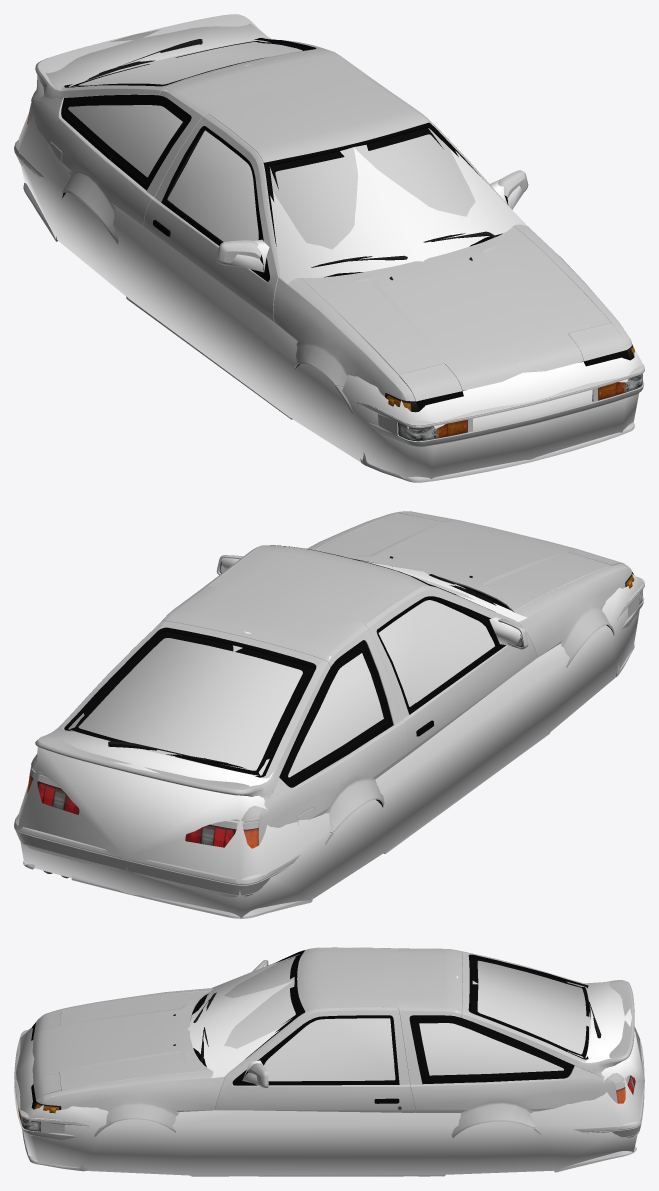
The model's file is RMCarDemo.FBX.
3 renders of one model, top to bottom at view 1: azimuth 30°, elevation 25°; view 2: azimuth 150°, elevation 25°; view 3: azimuth 270°, elevation 25°, orthographic. The views are drawn at different scales.
Parts seen in each view (by area): view 1: RMCDemo_Body_col, RMCDemo_Paint_LOD0, RMCDemo_Windows_LOD0, RMCDemo_Body_LOD0, RMCDemo_PaintHeadlightRight_LOD0, RMCDemo_PaintHeadlightLeft_LOD0, RMCDemo_FogLight_LOD0, RMCDemo_TurnSignalRight_LOD0; view 2: RMCDemo_Body_col, RMCDemo_Paint_LOD0, RMCDemo_Windows_LOD0, RMCDemo_Body_LOD0, RMCDemo_RearSideLight_LOD0; view 3: RMCDemo_Body_col, RMCDemo_Paint_LOD0, RMCDemo_Windows_LOD0, RMCDemo_Body_LOD0, RMCDemo_PaintHeadlightLeft_LOD0, RMCDemo_PaintHeadlightRight_LOD0, RMCDemo_TurnSignalLeft_LOD0.
Part boxes in pixels (x1=…): RMCDemo_Body_col: x1=18, y1=23, x2=643, y2=479; RMCDemo_Paint_LOD0: x1=14, y1=14, x2=644, y2=482; RMCDemo_Windows_LOD0: x1=65, y1=40, x2=474, y2=248; RMCDemo_Body_LOD0: x1=56, y1=38, x2=582, y2=390; RMCDemo_PaintHeadlightRight_LOD0: x1=399, y1=363, x2=462, y2=401; RMCDemo_PaintHeadlightLeft_LOD0: x1=568, y1=323, x2=626, y2=361; RMCDemo_FogLight_LOD0: x1=398, y1=373, x2=642, y2=441; RMCDemo_TurnSignalRight_LOD0: x1=27, y1=107, x2=467, y2=438; RMCDemo_Body_col: x1=18, y1=558, x2=643, y2=918; RMCDemo_Paint_LOD0: x1=14, y1=511, x2=644, y2=918; RMCDemo_Windows_LOD0: x1=69, y1=578, x2=496, y2=782; RMCDemo_Body_LOD0: x1=43, y1=545, x2=616, y2=878; RMCDemo_RearSideLight_LOD0: x1=38, y1=781, x2=234, y2=847; RMCDemo_Body_col: x1=16, y1=950, x2=644, y2=1175; RMCDemo_Paint_LOD0: x1=14, y1=947, x2=644, y2=1176; RMCDemo_Windows_LOD0: x1=225, y1=954, x2=589, y2=1081; RMCDemo_Body_LOD0: x1=173, y1=950, x2=601, y2=1109; RMCDemo_PaintHeadlightLeft_LOD0: x1=33, y1=1072, x2=60, y2=1100; RMCDemo_PaintHeadlightRight_LOD0: x1=33, y1=1010, x2=60, y2=1037; RMCDemo_TurnSignalLeft_LOD0: x1=18, y1=1084, x2=628, y2=1120.
Size of what is drawn, in the model's own units: 186 by 427 by 115.
